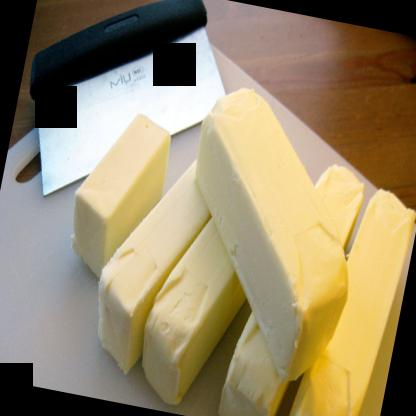butter: (156, 76, 382, 390), (216, 153, 369, 415), (279, 179, 415, 415), (86, 141, 219, 377), (134, 207, 261, 415), (63, 108, 175, 276)
